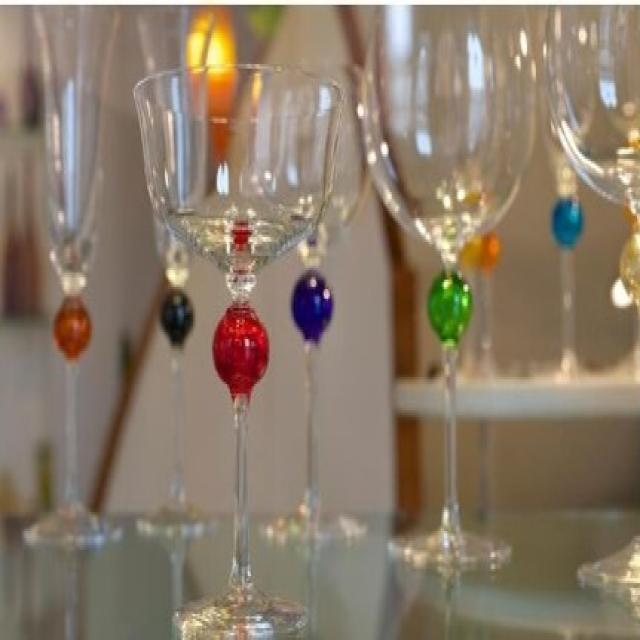electronic: (132, 52, 351, 640)
